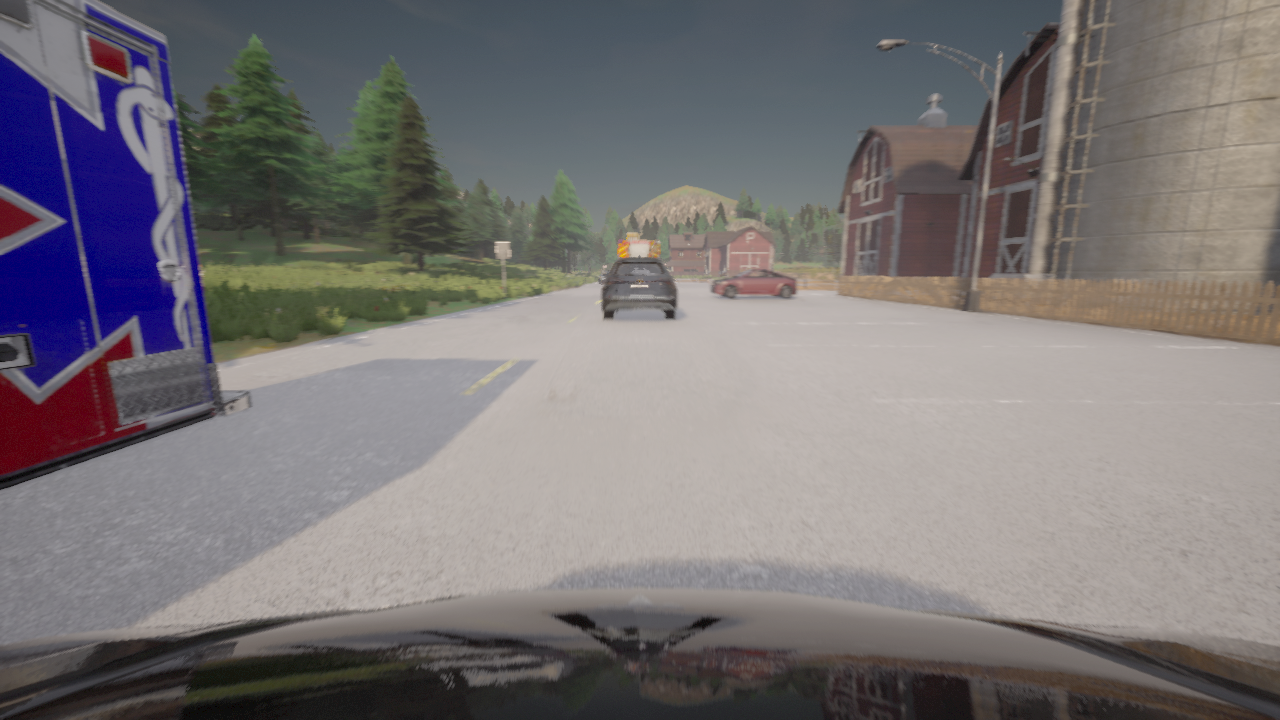cyclist: (0, 588, 1279, 719), (602, 256, 676, 319), (709, 269, 796, 298), (618, 233, 660, 259), (598, 269, 611, 284)
